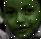without_mask: (1, 1, 41, 39)
